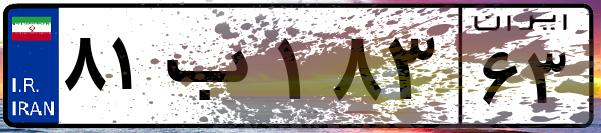1: (270, 28, 330, 110), (110, 28, 158, 98)
3: (385, 28, 445, 110), (525, 38, 570, 115)
6: (475, 38, 525, 113)
8: (330, 28, 385, 110), (57, 26, 110, 100)
ب: (158, 20, 270, 120)
